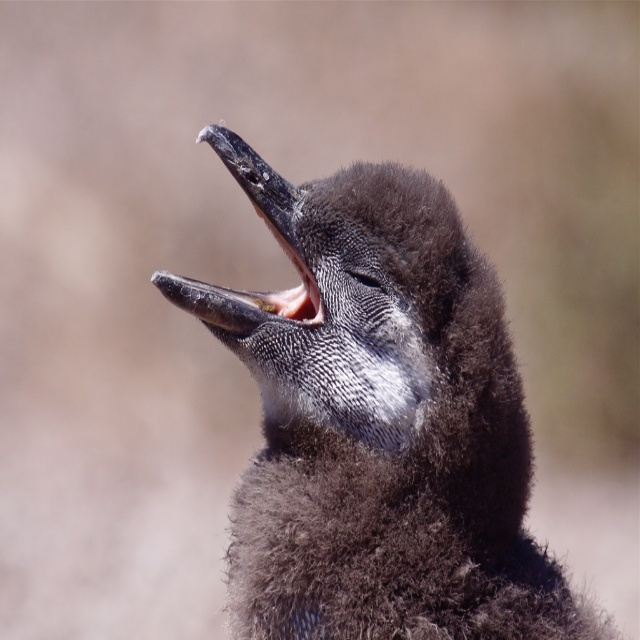Penguin: (150, 122, 622, 639)
